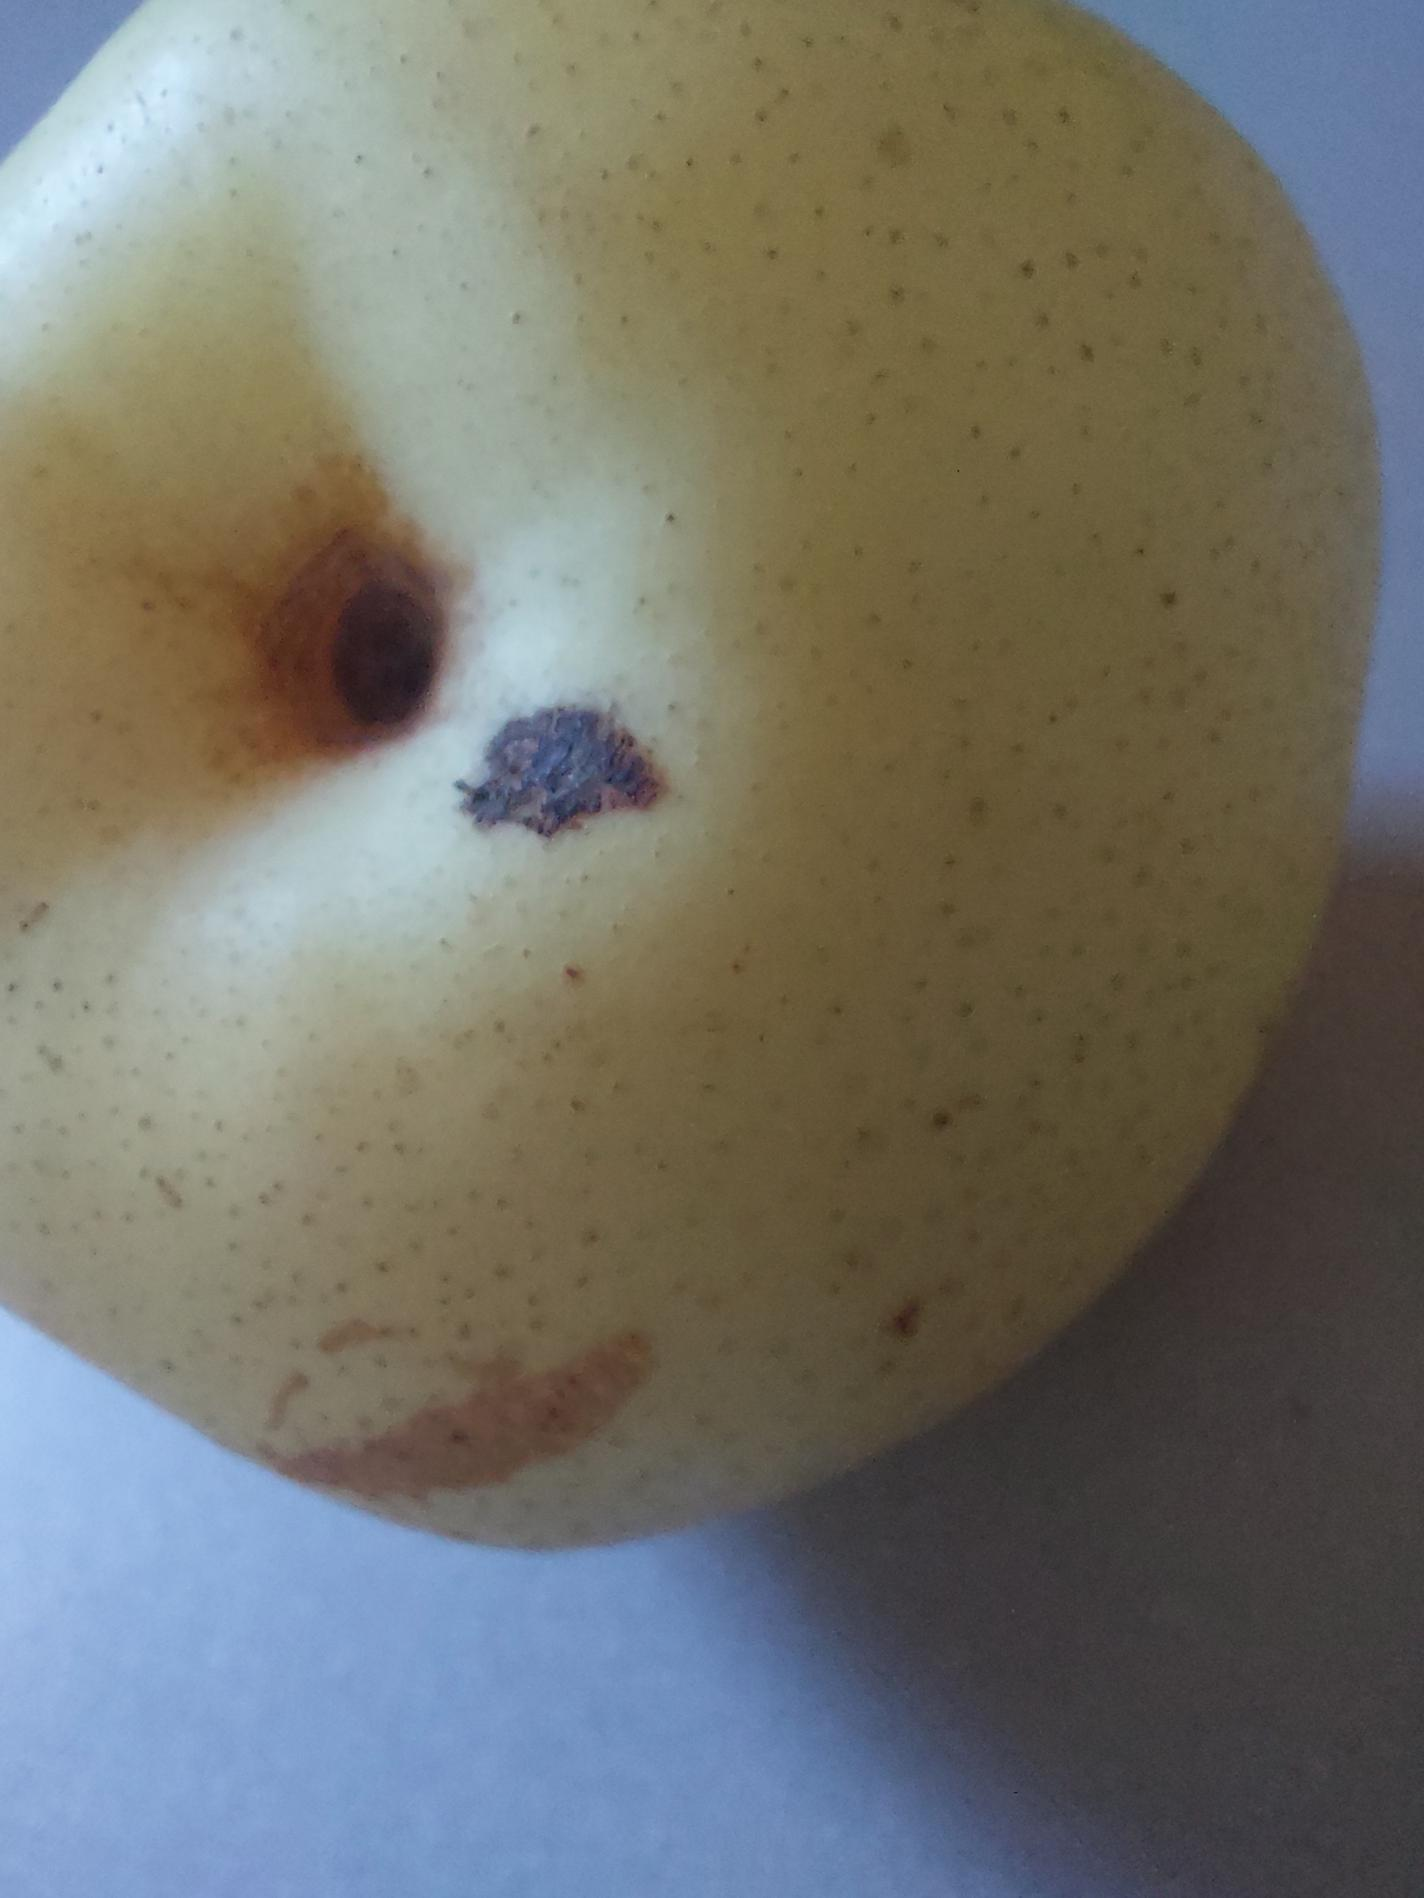Good Pear: (0, 0, 1409, 1576)
